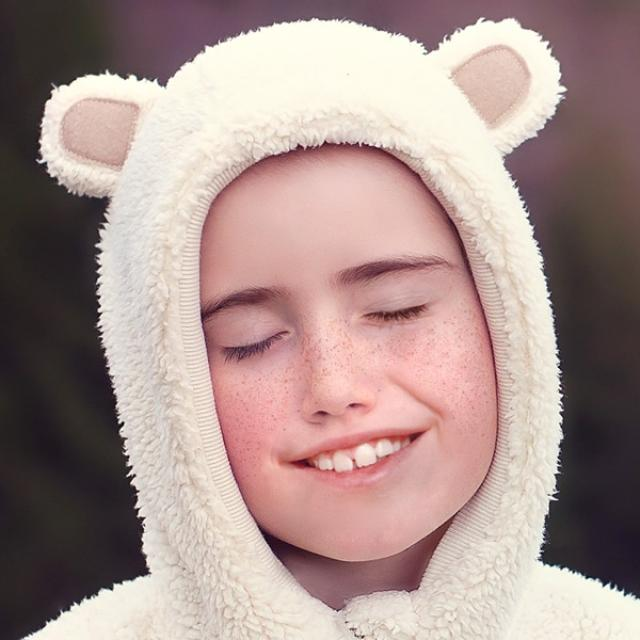face: (164, 135, 515, 566)
